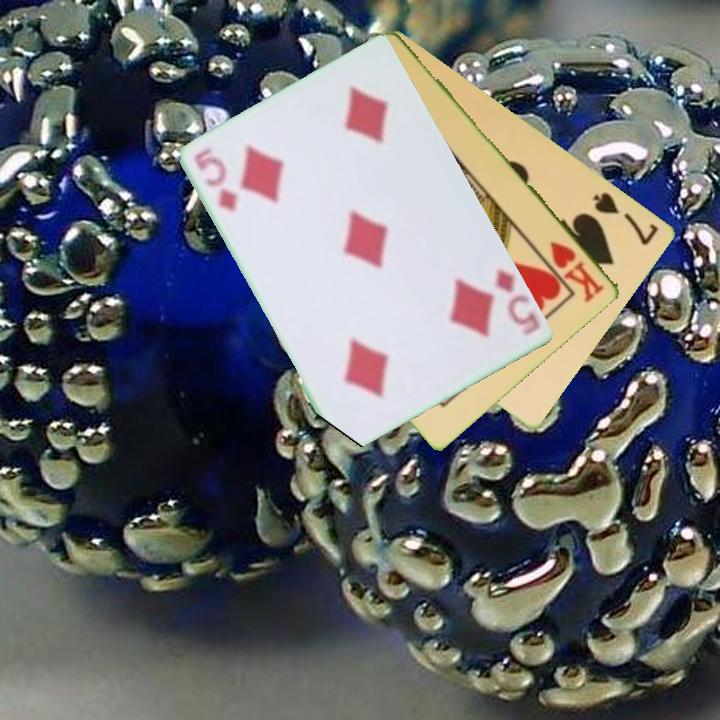5d: (491, 265, 544, 335), (191, 146, 240, 214)
7s: (590, 188, 662, 248)
Kh: (547, 237, 608, 305)
